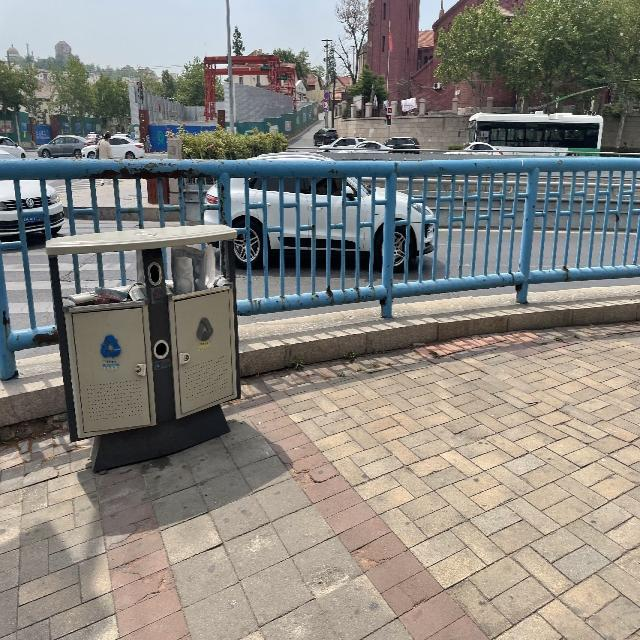overflow: (45, 224, 239, 471)
